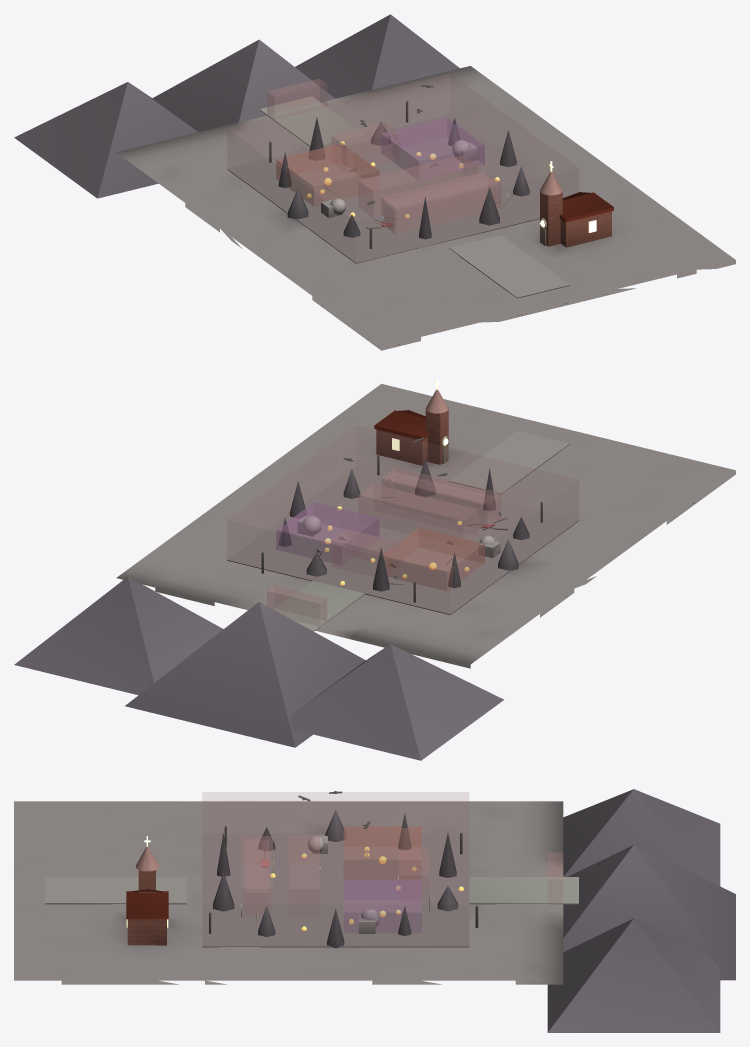
The model's file is valley_humiliation.glb.
3 views of the same model, one above another, from view 1: azimuth 30°, elevation 25°; view 2: azimuth 150°, elevation 25°; view 3: azimuth 270°, elevation 25° (orthographic). The views are drawn at different scales.
Visible parts, largest first — view 1: ENV_Humiliation_ValleyFloor, VIS_PROP_Ridge_Brood (×3), ENV_Humiliation_BossArena, COL_BossArenaBounds, COL_ShameFieldZone, TRIGGER_ApollyonIntro, COL_DespairFlameZone, ENV_Humiliation_DescentPath, TRIGGER_ApollyonApproach, VIS_PROP_Chapel (×3), TRIGGER_BossStart, ENV_Humiliation_ExitPath (+2 smaller); view 2: ENV_Humiliation_ValleyFloor, VIS_PROP_Ridge_Brood (×3), ENV_Humiliation_BossArena, COL_BossArenaBounds, COL_ShameFieldZone, COL_DespairFlameZone, TRIGGER_BossStart, ENV_Humiliation_DescentPath, VIS_PROP_Chapel (×3), TRIGGER_ApollyonIntro, ENV_Humiliation_ExitPath, TRIGGER_BossVictory (+2 smaller); view 3: ENV_Humiliation_ValleyFloor, VIS_PROP_Ridge_Brood (×3), ENV_Humiliation_BossArena, COL_BossArenaBounds, COL_DespairFlameZone, COL_ShameFieldZone, ENV_Humiliation_DescentPath, ENV_Humiliation_ExitPath, TRIGGER_BossStart, TRIGGER_ApollyonIntro, VIS_PROP_Chapel (×2), TRIGGER_ApollyonApproach (+6 smaller).
Part boxes in pixels (left/top/right/bottom): ENV_Humiliation_ValleyFloor: left=116, top=66, right=735, bottom=350; VIS_PROP_Ridge_Brood (×3): left=14, top=14, right=459, bottom=198; ENV_Humiliation_BossArena: left=227, top=114, right=563, bottom=263; COL_BossArenaBounds: left=228, top=74, right=578, bottom=196; COL_ShameFieldZone: left=381, top=117, right=484, bottom=180; TRIGGER_ApollyonIntro: left=381, top=172, right=500, bottom=234; COL_DespairFlameZone: left=276, top=143, right=379, bottom=206; ENV_Humiliation_DescentPath: left=449, top=235, right=569, bottom=298; TRIGGER_ApollyonApproach: left=383, top=176, right=498, bottom=232; VIS_PROP_Chapel (×3): left=540, top=189, right=613, bottom=247; TRIGGER_BossStart: left=358, top=155, right=478, bottom=217; ENV_Humiliation_ExitPath: left=259, top=96, right=364, bottom=146; ENV_Humiliation_ValleyFloor: left=116, top=384, right=735, bottom=668; VIS_PROP_Ridge_Brood (×3): left=14, top=576, right=503, bottom=760; ENV_Humiliation_BossArena: left=227, top=465, right=579, bottom=614; COL_BossArenaBounds: left=228, top=426, right=578, bottom=558; COL_ShameFieldZone: left=276, top=502, right=379, bottom=565; COL_DespairFlameZone: left=383, top=528, right=484, bottom=590; TRIGGER_BossStart: left=358, top=484, right=478, bottom=539; ENV_Humiliation_DescentPath: left=449, top=431, right=569, bottom=493; VIS_PROP_Chapel (×3): left=374, top=407, right=448, bottom=465; TRIGGER_ApollyonIntro: left=381, top=467, right=500, bottom=529; ENV_Humiliation_ExitPath: left=273, top=581, right=364, bottom=631; TRIGGER_BossVictory: left=332, top=529, right=398, bottom=576; ENV_Humiliation_ValleyFloor: left=14, top=801, right=563, bottom=984; VIS_PROP_Ridge_Brood (×3): left=547, top=789, right=735, bottom=1032; ENV_Humiliation_BossArena: left=202, top=833, right=469, bottom=947; COL_BossArenaBounds: left=203, top=792, right=468, bottom=833; COL_DespairFlameZone: left=343, top=826, right=421, bottom=879; COL_ShameFieldZone: left=343, top=879, right=421, bottom=932; ENV_Humiliation_DescentPath: left=45, top=877, right=186, bottom=904; ENV_Humiliation_ExitPath: left=469, top=877, right=578, bottom=904; TRIGGER_BossStart: left=289, top=836, right=319, bottom=915; TRIGGER_ApollyonIntro: left=242, top=836, right=272, bottom=915; VIS_PROP_Chapel (×2): left=126, top=891, right=168, bottom=945; TRIGGER_ApollyonApproach: left=246, top=840, right=268, bottom=915.
Size of the model in its own units: 62 by 19.68 by 92.
37 materials, 2 textured.
